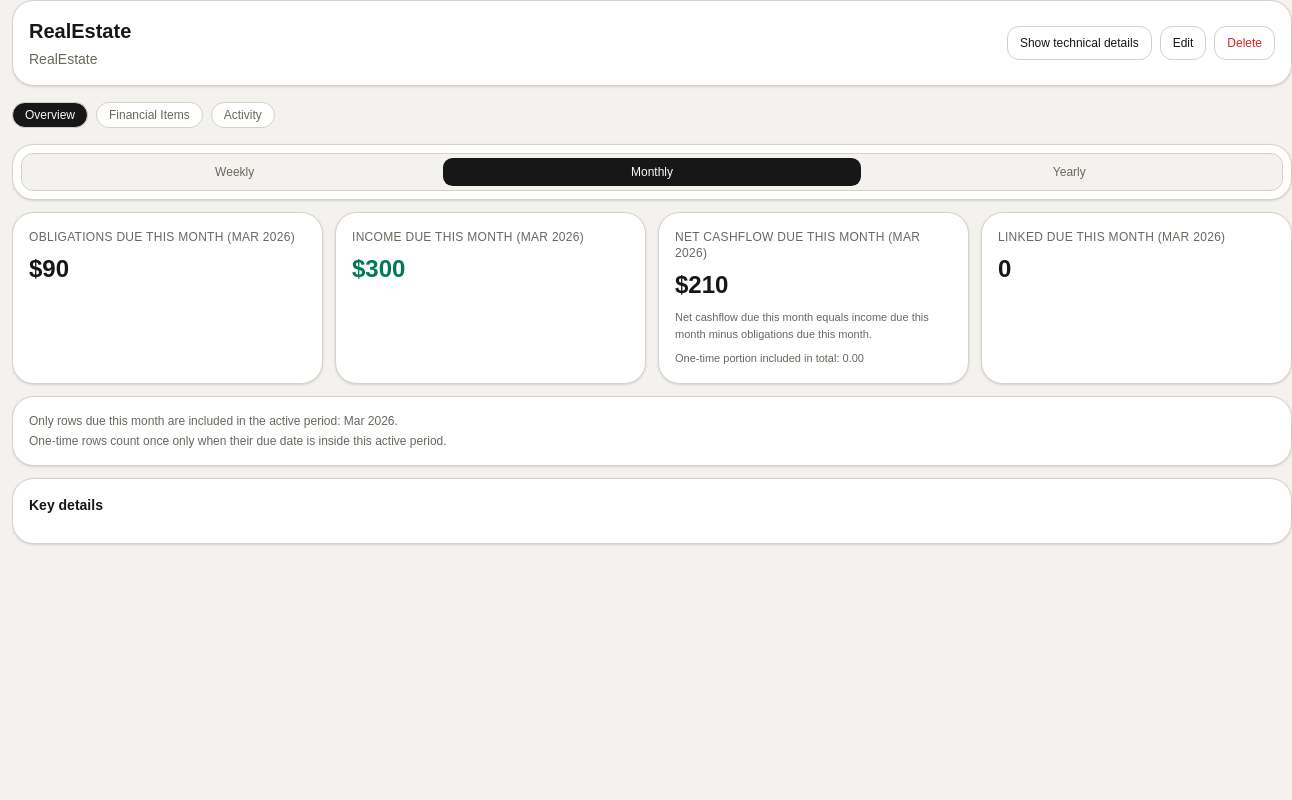
Test case: item detail events panel › excludes out-of-period yearly obligations from monthly totals and includes full amounts when yearly cadence is active
The width and height of the screenshot is (1292, 800).
Expected: the text "Obligations due this month (Mar 2026)" is shown, [29, 229, 306, 245]
Expected: the text "Obligations due this month (Mar 2026)" reads "Obligations due this month (Mar 2026) $90", [29, 255, 69, 282]
Click the button with aria-label "Selected cadence: Yearly" at (1069, 172), box [861, 158, 1278, 186]
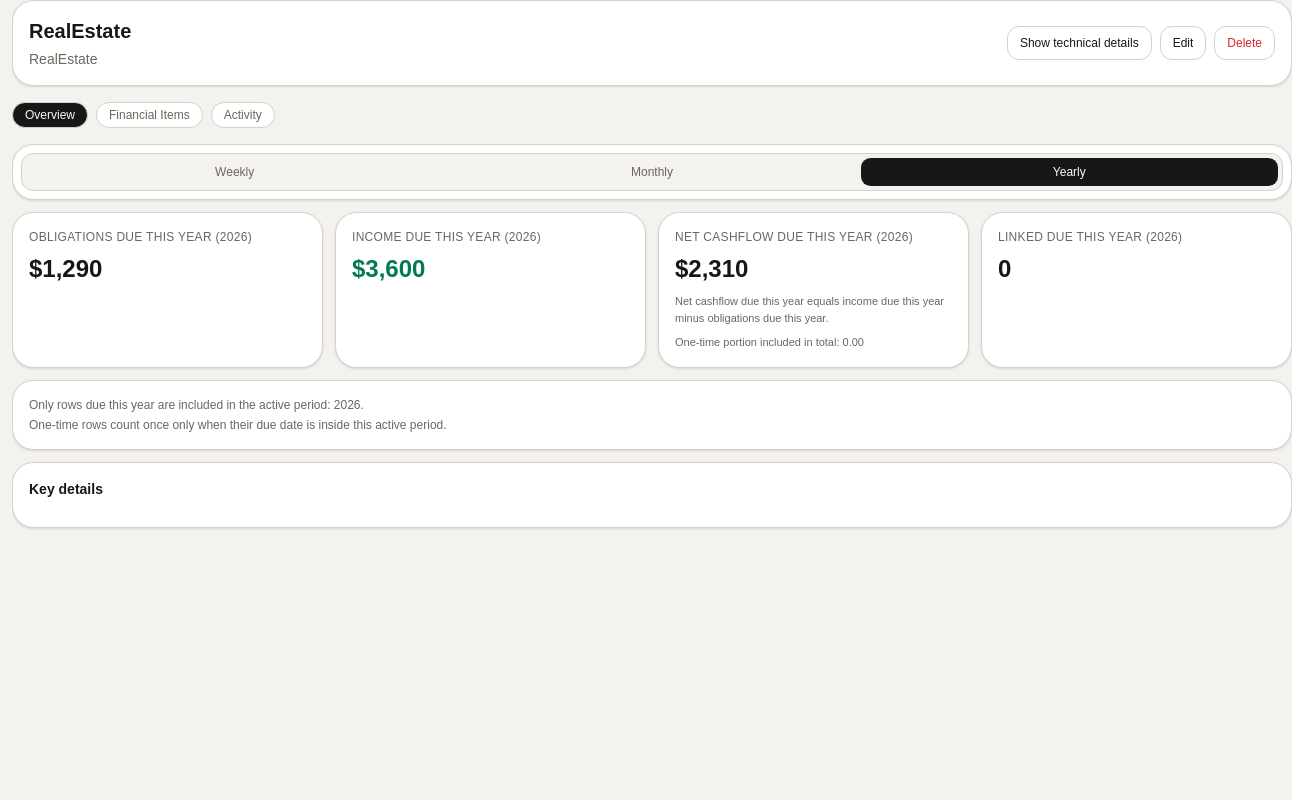
Expected: the text "Obligations due this year (2026)" is shown, [29, 230, 252, 244]
Expected: the text "Obligations due this month (Mar 2026)" reads "Obligations due this year (2026) $1,290", [29, 255, 102, 282]
Expected: the text "Income due this month (Mar 2026)" reads "Income due this year (2026) $3,600", [352, 255, 425, 282]
